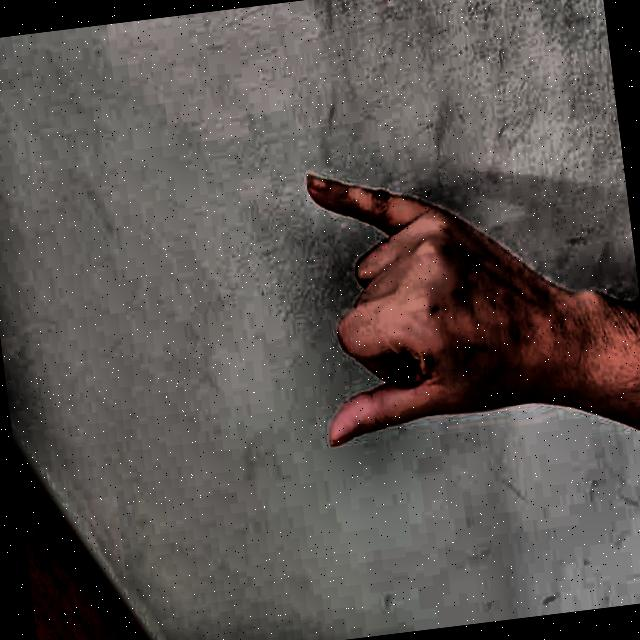Oi: (256, 113, 586, 499)
